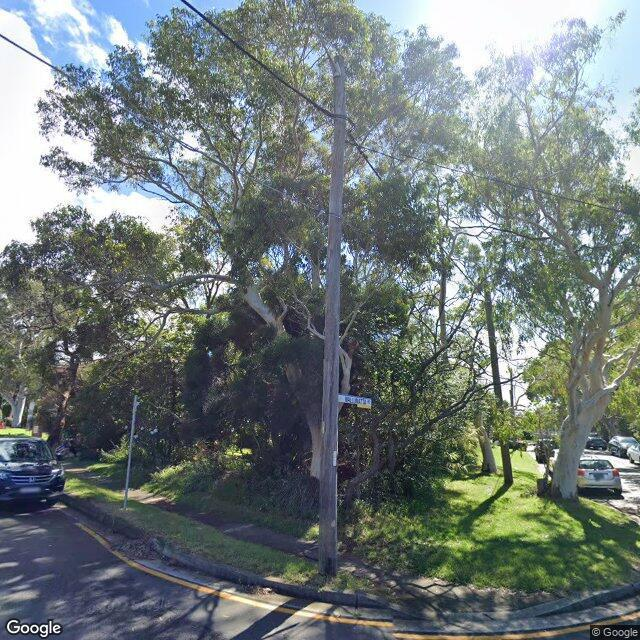timber-pole: (317, 73, 347, 576)
